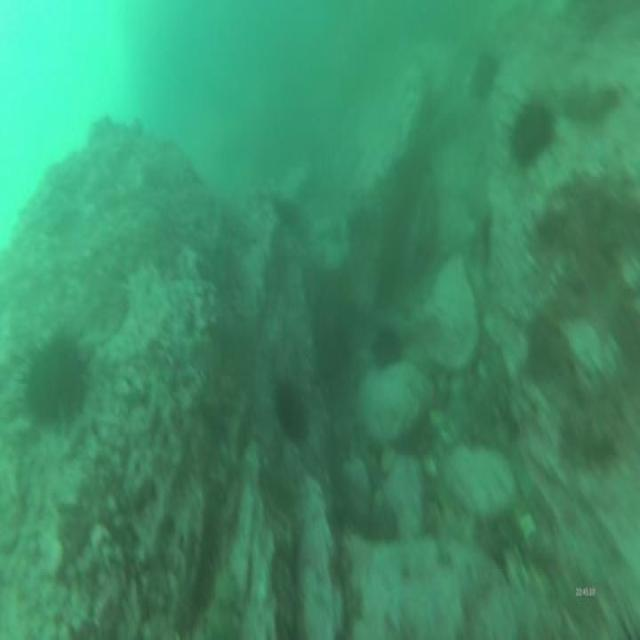echinus: (20, 324, 86, 436), (504, 93, 559, 172), (268, 374, 310, 442), (465, 44, 504, 103), (369, 322, 404, 374)
